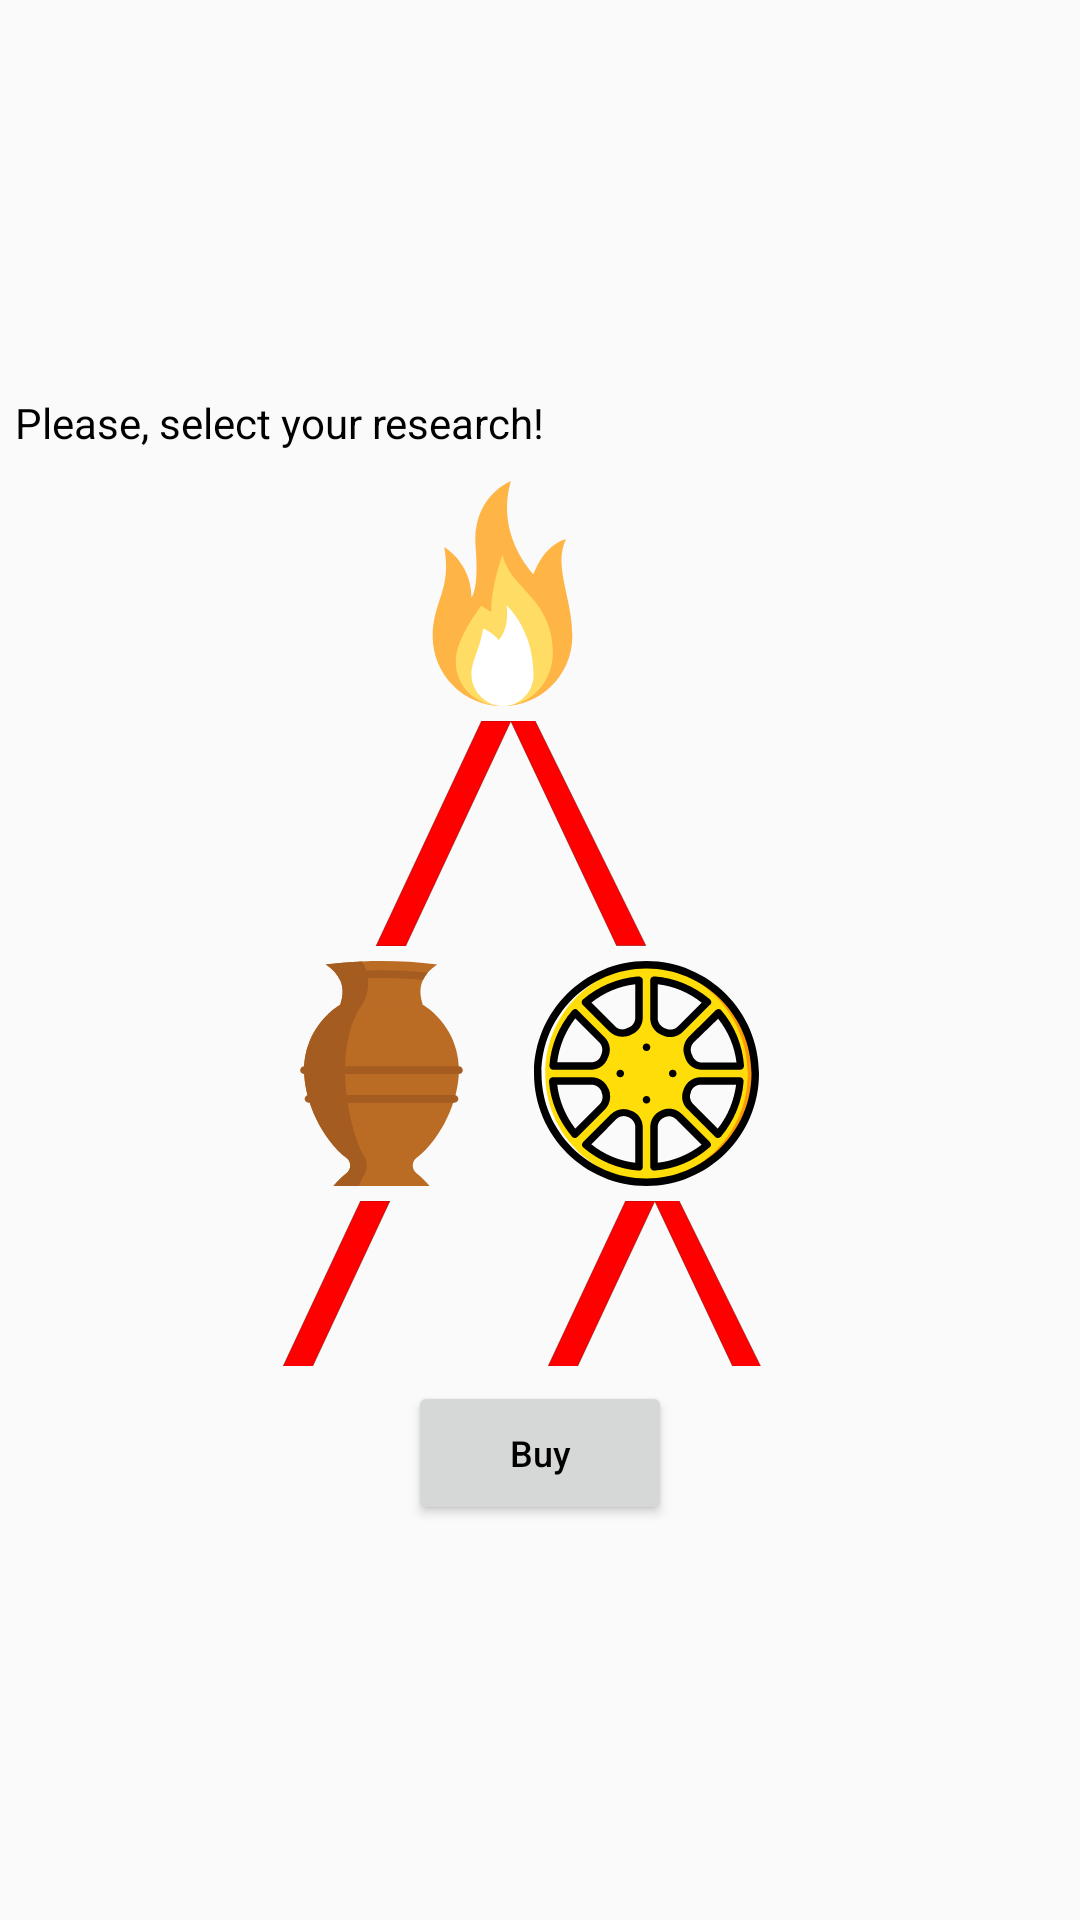

Icon bounding boxes for this 1080*1920 phone screenshot, format rect(x1, y1, x2, y2):
alloy wheel: rect(534, 961, 759, 1186)
ceramic pottery: rect(300, 961, 463, 1186)
fire: rect(432, 481, 573, 706)
